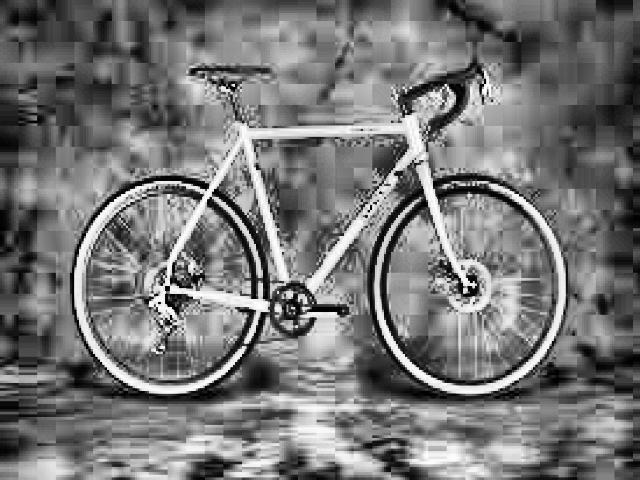cranks_set: (266, 279, 350, 341)
rear_derailleur: (140, 292, 180, 358)
saddle: (188, 60, 273, 91)
sti_shifter: (472, 49, 496, 111)
wheel: (367, 173, 569, 400), (67, 175, 268, 402)
